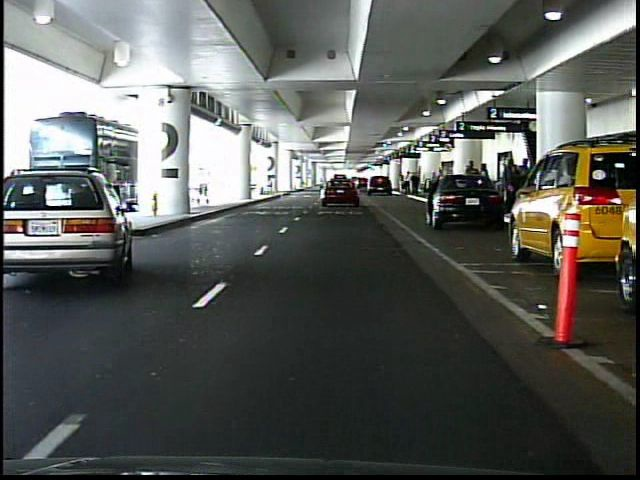person: (499, 159, 520, 215), (464, 159, 480, 208), (477, 162, 492, 209), (403, 170, 412, 197), (411, 173, 420, 198), (398, 175, 405, 192)
